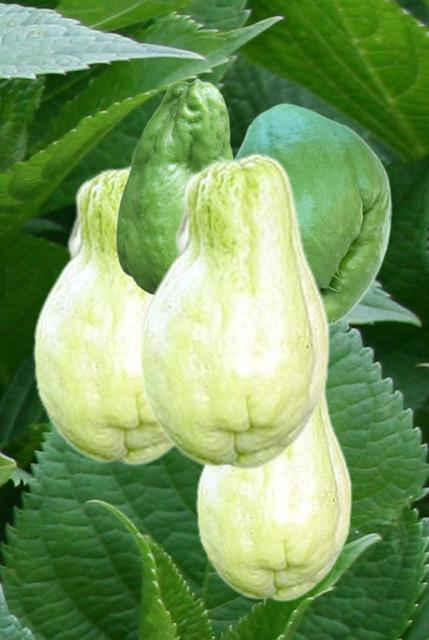sayote: (138, 152, 329, 470), (32, 161, 173, 465), (235, 103, 391, 326), (195, 388, 351, 601), (115, 78, 234, 294)
